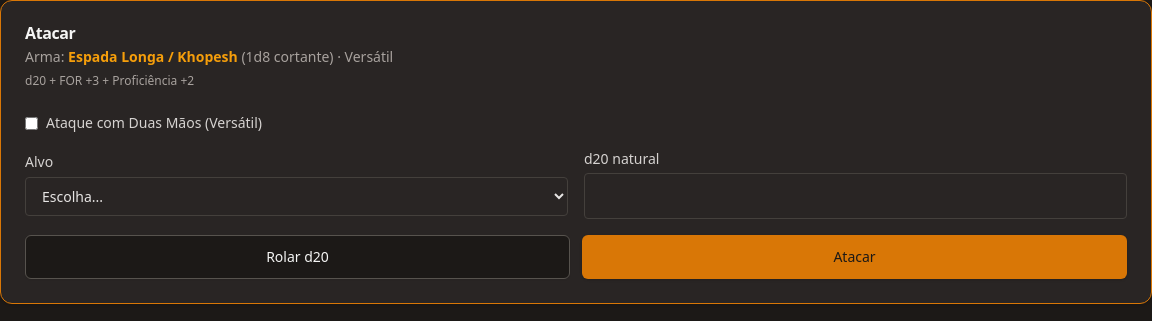
Test: AttackPanel: errar › 1 natural é Falha Crítica
Step 1. Select "Rute" in the dropdown labelled "Alvo" → (296, 196), box [25,177,568,216]
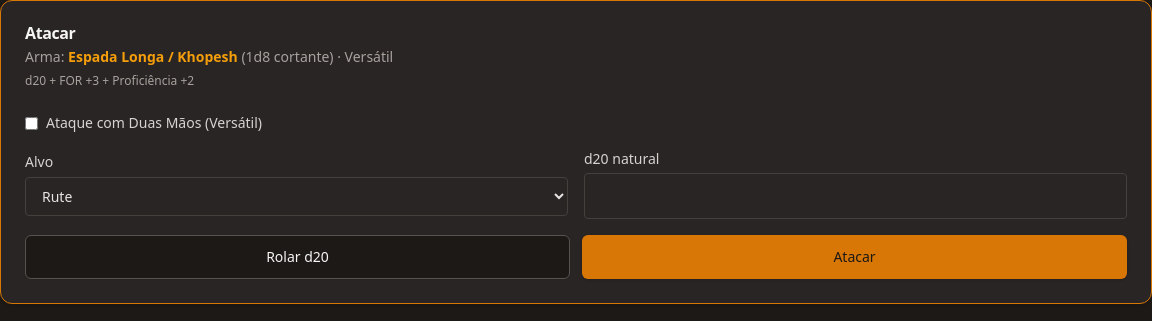
Step 2. Type "1" into the number field labelled "d20 natural" → (856, 196), box [584,173,1127,219]
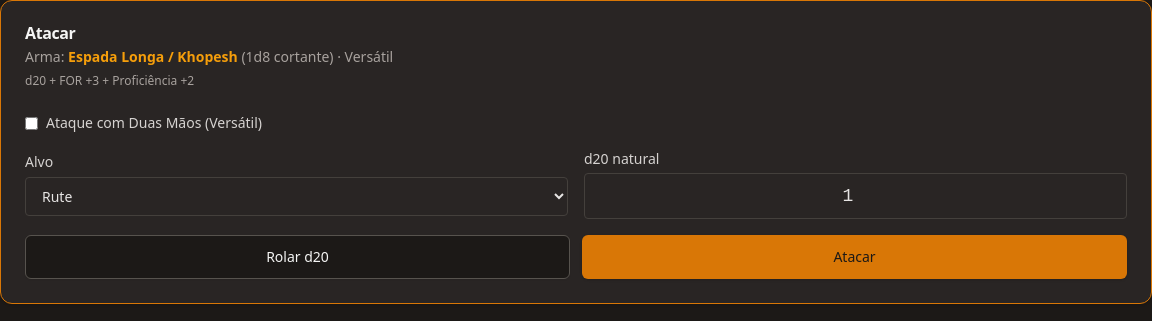
Step 3. Click the button "Atacar" → click(854, 257), box [582,235,1127,279]
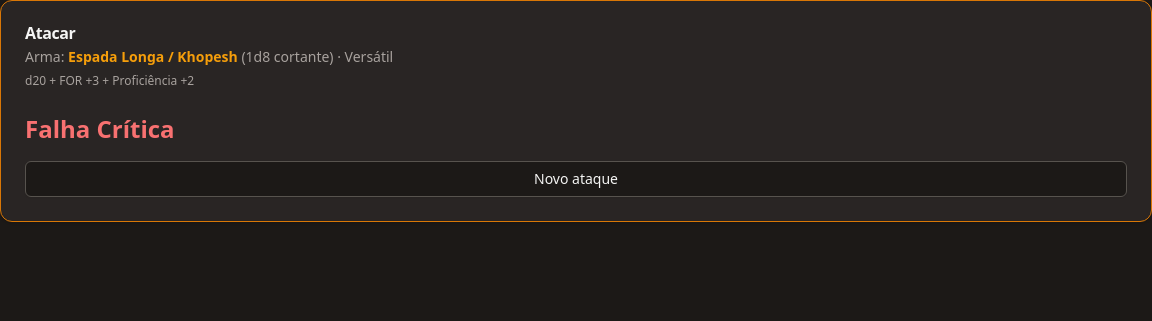
expect the text "Falha Crítica" is shown: met, box [25,112,175,145]
